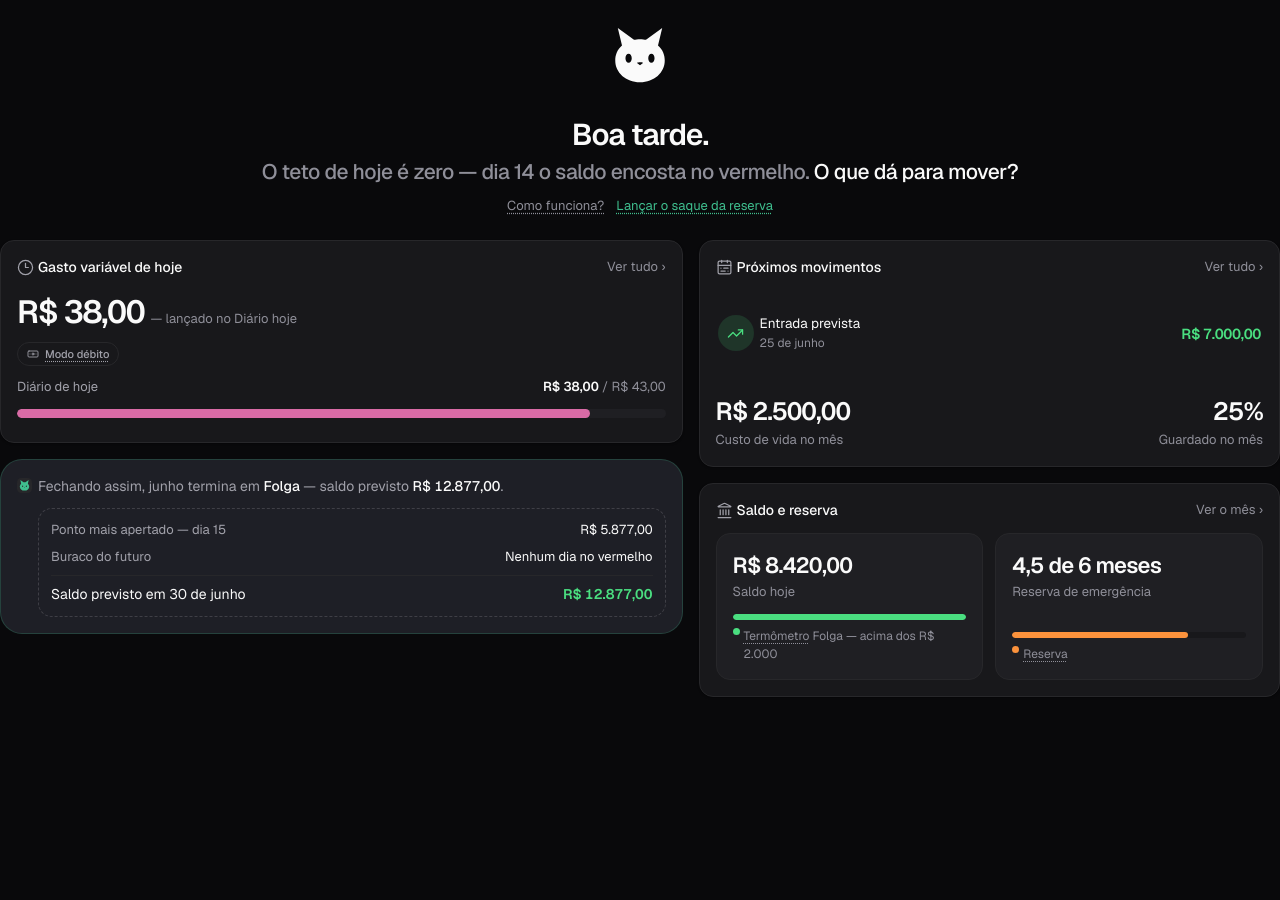
it: DashboardScreen (Hoje) › teto zero com reserva: a resposta é o saque, não a performance
The image size is (1280, 900).
Click the button "Como funciona?": (556, 206) [507, 197, 604, 216]
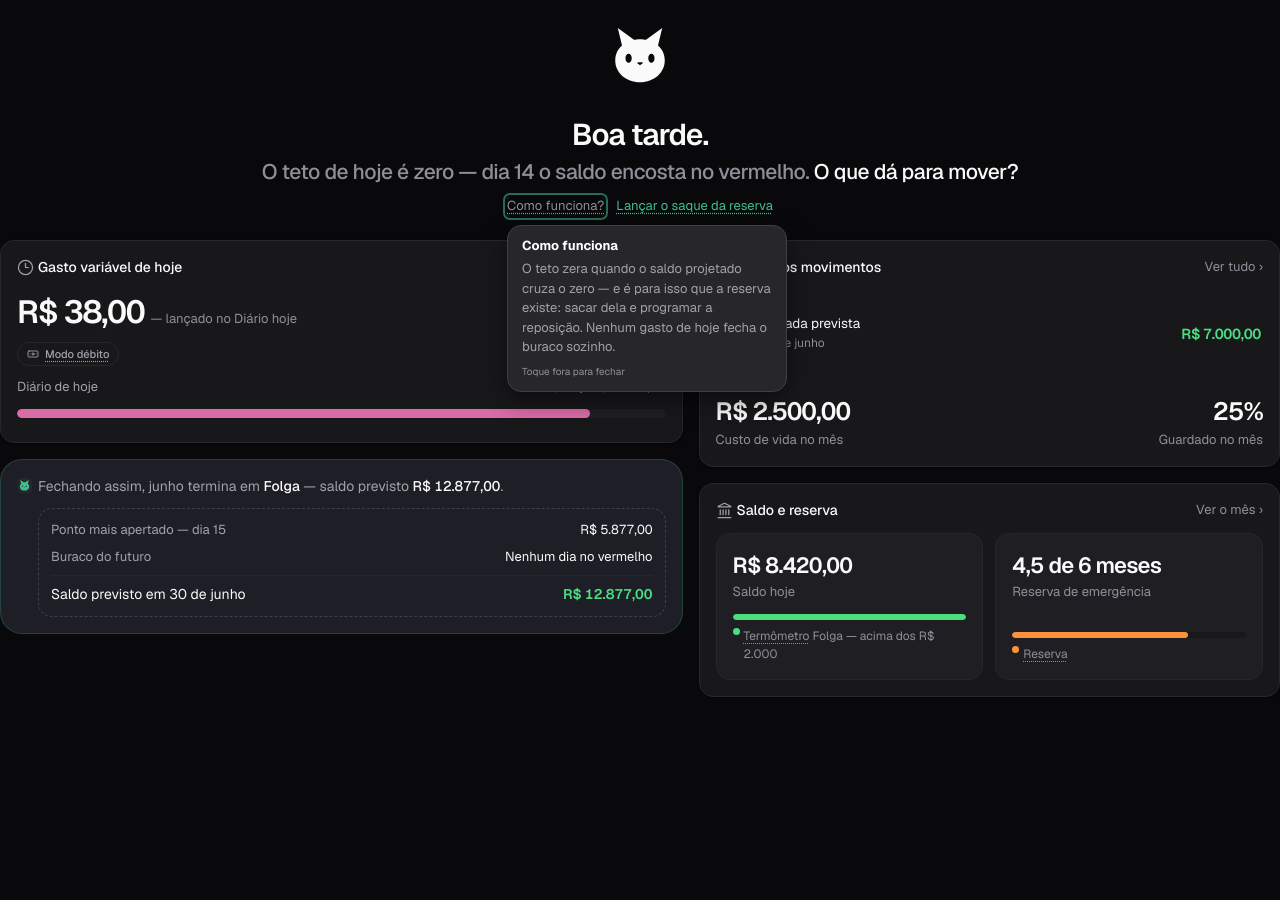
Expected: the tooltip does not show "sem reserva mapeada", [507, 225, 787, 392]
Now the tooltip shows "sacar dela", box [522, 260, 770, 356]
